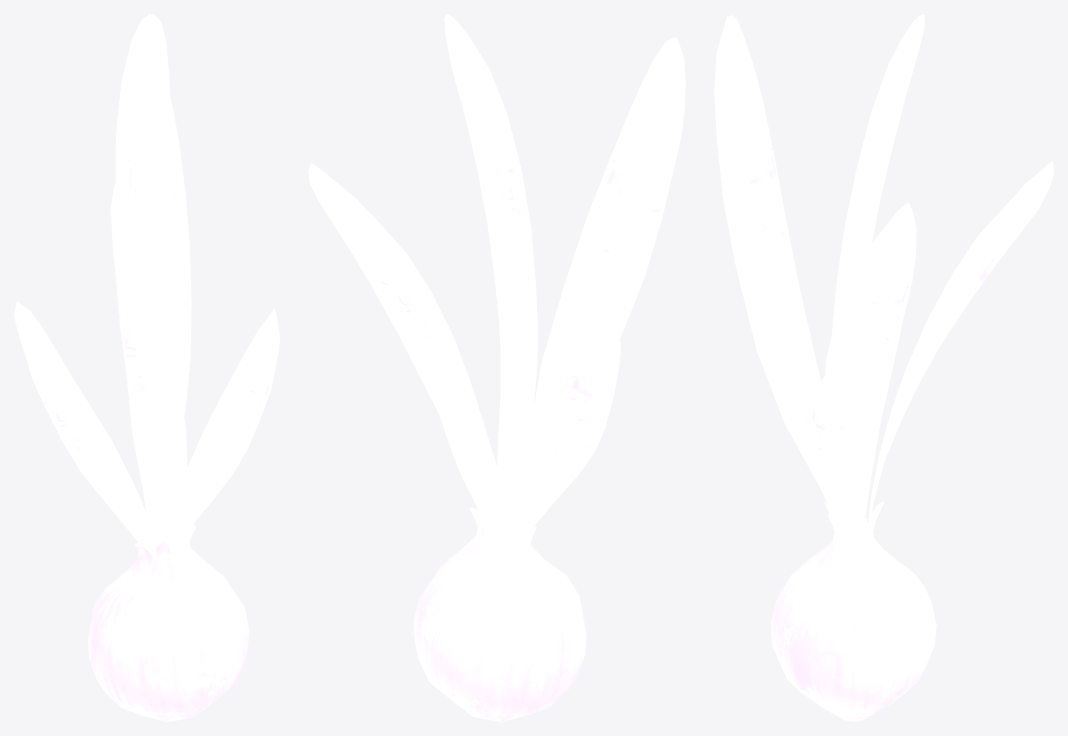
3 renders of one model, left to right at view 1: azimuth 30°, elevation 25°; view 2: azimuth 150°, elevation 25°; view 3: azimuth 270°, elevation 25°, orthographic. The views are drawn at different scales.
Parts seen in each view (by area): view 1: SM_Onion_Plant_01_LOD0; view 2: SM_Onion_Plant_01_LOD0; view 3: SM_Onion_Plant_01_LOD0.
Part boxes in pixels (bbox=[...]): SM_Onion_Plant_01_LOD0: bbox=[14, 14, 279, 721]; SM_Onion_Plant_01_LOD0: bbox=[308, 14, 685, 721]; SM_Onion_Plant_01_LOD0: bbox=[714, 14, 1053, 721].
Bounding box in the file's own units: 0.3686 × 1.03 × 0.4479.
1 material, 1 textured.
